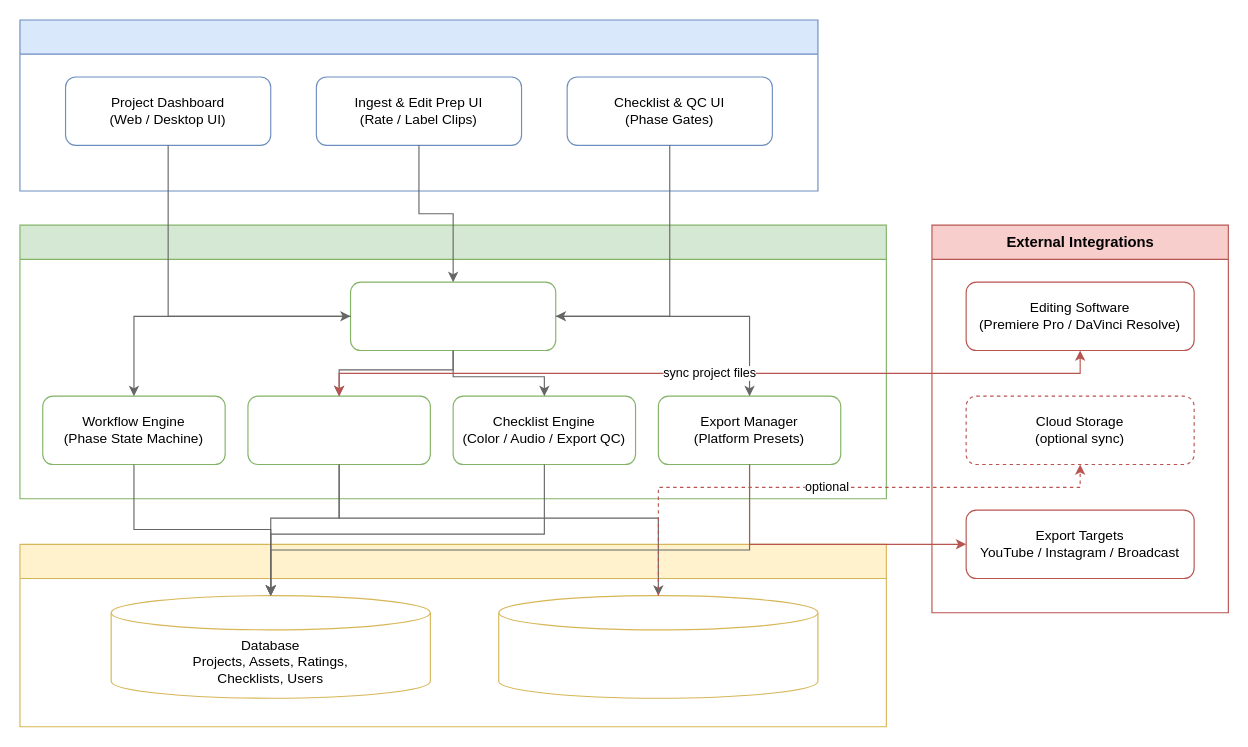
Image size: 1248x747. Some labels were removed from this diagram. Here are the shapes that lost their labels. From the top down, the box of each, then its label:
(19, 19, 818, 191): Client Layer
(349, 281, 556, 351): API Gateway
(19, 224, 886, 499): Backend / API Layer
(247, 395, 430, 465): File & Folder Manager (01-05 Structure, Naming)
(19, 543, 886, 727): Data Layer
(498, 595, 818, 698): Media & File Storage 01_Footage ... 05_Exports
